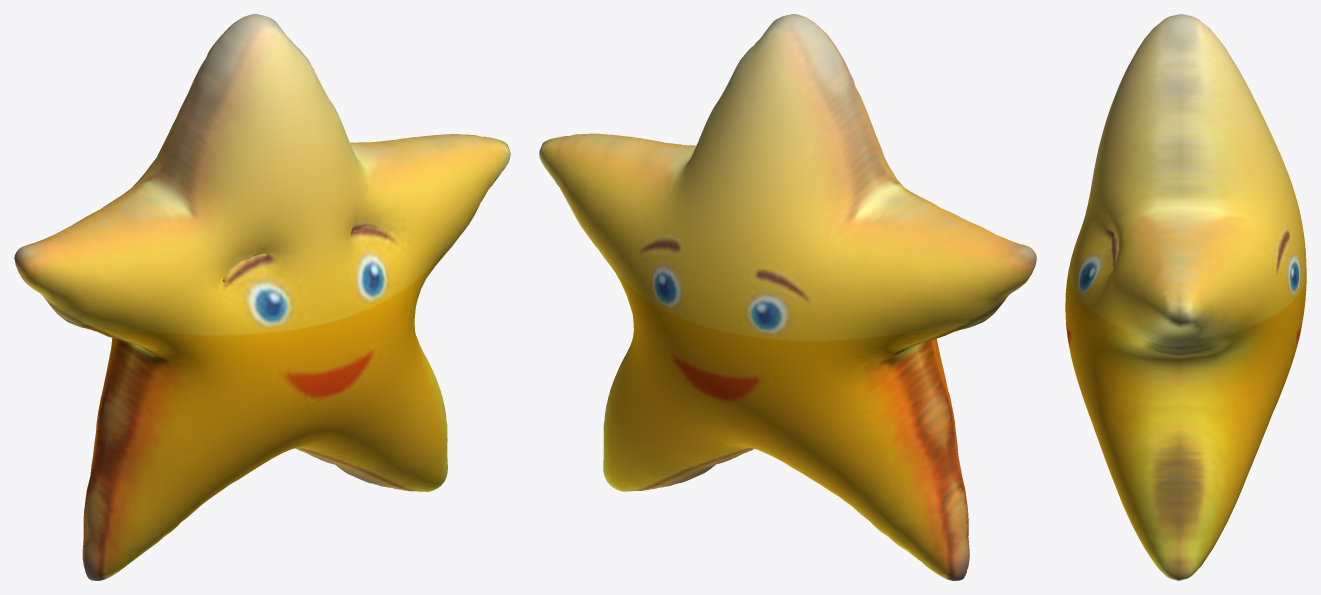
File: mm_project.glb
The picture shows the model from 3 angles, left to right: view 1: azimuth 30°, elevation 25°; view 2: azimuth 150°, elevation 25°; view 3: azimuth 270°, elevation 25°; orthographic projection. The views are drawn at different scales.
Size of the model in its own units: 5.41 by 5.49 by 2.43.
1 material, 1 textured.
